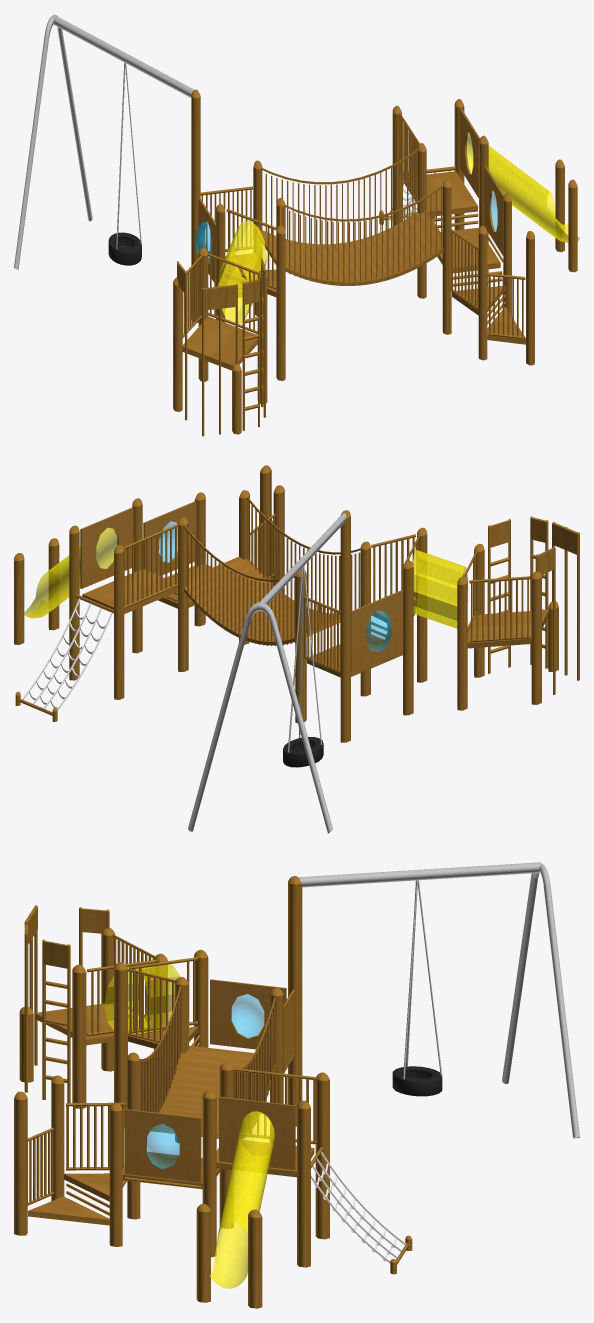
The model's file is juego_1.fbx.
The picture shows the model from 3 angles, top to bottom: view 1: azimuth 30°, elevation 25°; view 2: azimuth 150°, elevation 25°; view 3: azimuth 270°, elevation 25°; orthographic projection. The views are drawn at different scales.
Parts seen in each view (by area): view 1: Play_Ground_Equipment_1_1, Slide_1_1, SQPLATFORM1, VPIPE_1_27, SQPLATFORM4, VPIPE_1_25, VPIPE_1_79, VPIPE_1_80, VPIPE_1_2, VPIPE_1_92, Panel_01_1_1, SQPLATFORM3 (+15 smaller); view 2: Play_Ground_Equipment_1_1, Panel_01_1_2, VPIPE_1_27, Slide_1_1, Panel_01_1_3, SQPLATFORM1, Panel_01_1_1, VPIPE_1_26, VPIPE_1_93, SQPLATFORM4, VPIPE_1_70, VPIPE_1_94 (+23 smaller); view 3: Play_Ground_Equipment_1_1, Slide_1_1, Panel_01_1_1, Panel_01_1_3, VPIPE_1_27, Panel_01_1_2, VPIPE_1_94, VPIPE_1_93, VPIPE_1_4, VPIPE_1_82, VPIPE_1_92, VPIPE_1_25 (+26 smaller).
Boxes of the visible parts, bbox=[...] form: Play_Ground_Equipment_1_1: bbox=[14, 14, 443, 323]; Slide_1_1: bbox=[467, 132, 579, 242]; SQPLATFORM1: bbox=[182, 316, 257, 370]; VPIPE_1_27: bbox=[191, 95, 200, 322]; SQPLATFORM4: bbox=[403, 171, 477, 216]; VPIPE_1_25: bbox=[276, 231, 285, 380]; VPIPE_1_79: bbox=[442, 184, 451, 334]; VPIPE_1_80: bbox=[478, 232, 487, 360]; VPIPE_1_2: bbox=[173, 283, 182, 411]; VPIPE_1_92: bbox=[526, 237, 534, 365]; Panel_01_1_1: bbox=[484, 166, 503, 255]; SQPLATFORM3: bbox=[437, 227, 500, 273]; Play_Ground_Equipment_1_1: bbox=[184, 497, 468, 833]; Panel_01_1_2: bbox=[351, 590, 402, 671]; VPIPE_1_27: bbox=[340, 516, 350, 742]; Slide_1_1: bbox=[24, 527, 117, 618]; Panel_01_1_3: bbox=[80, 507, 133, 588]; SQPLATFORM1: bbox=[467, 609, 549, 648]; Panel_01_1_1: bbox=[143, 501, 196, 575]; VPIPE_1_26: bbox=[403, 567, 413, 715]; VPIPE_1_93: bbox=[114, 551, 124, 699]; SQPLATFORM4: bbox=[82, 569, 177, 613]; VPIPE_1_70: bbox=[178, 523, 188, 671]; VPIPE_1_94: bbox=[69, 532, 79, 680]; Play_Ground_Equipment_1_1: bbox=[104, 862, 579, 1138]; Slide_1_1: bbox=[210, 1111, 274, 1288]; Panel_01_1_1: bbox=[124, 1109, 201, 1182]; Panel_01_1_3: bbox=[219, 1096, 295, 1170]; VPIPE_1_27: bbox=[288, 882, 302, 1126]; Panel_01_1_2: bbox=[210, 979, 286, 1049]; VPIPE_1_94: bbox=[297, 1106, 310, 1267]; VPIPE_1_93: bbox=[315, 1079, 329, 1239]; VPIPE_1_4: bbox=[72, 971, 86, 1108]; VPIPE_1_82: bbox=[202, 1096, 216, 1257]; VPIPE_1_92: bbox=[14, 1098, 27, 1235]; VPIPE_1_25: bbox=[114, 968, 127, 1128].
Size of the model in its own units: 8.32 by 3.96 by 8.11.
